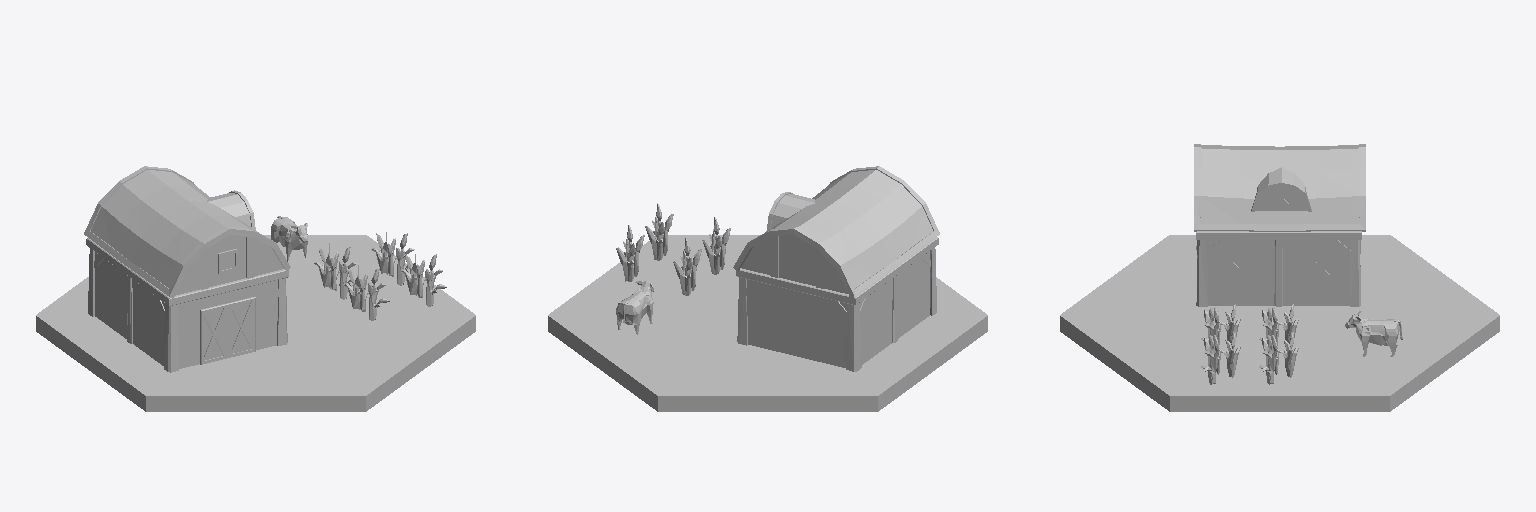
File: terrain_farm.obj
3 views of the same model, side by side, from view 1: azimuth 30°, elevation 25°; view 2: azimuth 150°, elevation 25°; view 3: azimuth 270°, elevation 25° (orthographic).
Parts seen in each view (by area): view 1: baseTile, farm, Wheat3, Wheat4, Cow, Wheat2, Wheat1; view 2: baseTile, farm, Cow, Wheat3, Wheat2, Wheat1, Wheat4; view 3: baseTile, farm, Cow, Wheat4, Wheat2, Wheat1, Wheat3.
Part boxes in pixels (bbox=[...]): baseTile: bbox=[36, 235, 475, 411]; farm: bbox=[84, 166, 290, 372]; Wheat3: bbox=[343, 265, 389, 320]; Wheat4: bbox=[401, 254, 446, 306]; Cow: bbox=[271, 216, 307, 262]; Wheat2: bbox=[371, 232, 414, 285]; Wheat1: bbox=[314, 243, 357, 299]; baseTile: bbox=[548, 235, 987, 411]; farm: bbox=[733, 166, 939, 371]; Cow: bbox=[616, 281, 653, 334]; Wheat3: bbox=[702, 217, 730, 274]; Wheat2: bbox=[616, 225, 644, 281]; Wheat1: bbox=[673, 238, 701, 295]; Wheat4: bbox=[645, 203, 673, 260]; baseTile: bbox=[1060, 235, 1499, 411]; farm: bbox=[1194, 144, 1365, 306]; Cow: bbox=[1345, 311, 1402, 356]; Wheat4: bbox=[1201, 332, 1240, 384]; Wheat2: bbox=[1259, 332, 1298, 384]; Wheat1: bbox=[1259, 304, 1298, 352]; Wheat3: bbox=[1201, 304, 1240, 353].
Bounding box in the file's own units: 1.44 × 0.6276 × 1.67.